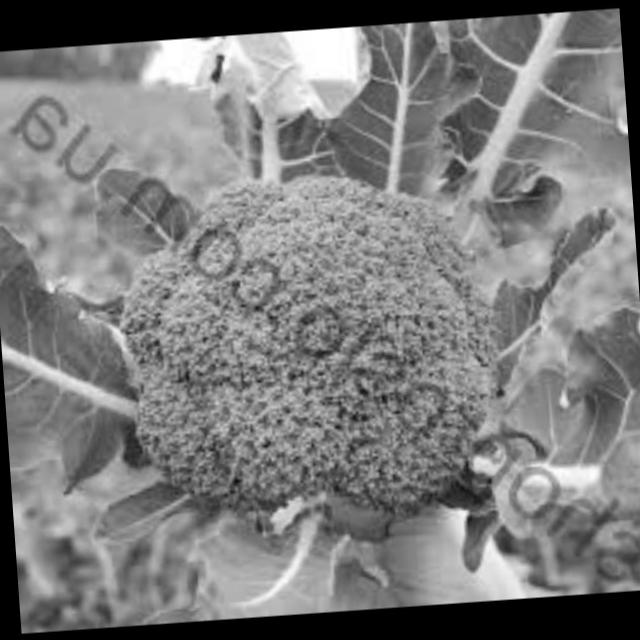broccoli: (93, 148, 526, 526)
